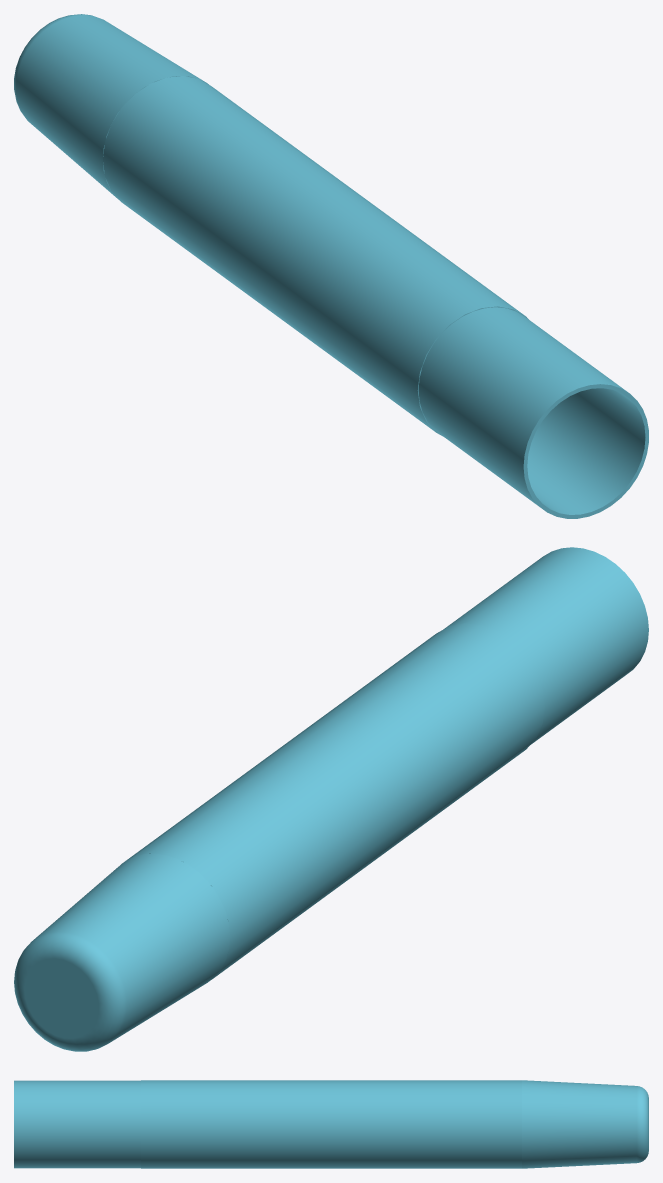
File: lysis-tube-1.obj
3 views of the same model, one above another, from view 1: azimuth 30°, elevation 25°; view 2: azimuth 150°, elevation 25°; view 3: azimuth 270°, elevation 25° (orthographic). The views are drawn at different scales.
Visible parts, largest first — view 1: Body1, Body4, Body3; view 2: Body1, Body3, Body4; view 3: Body1, Body4, Body3.
Part boxes in pixels (box(x1,y1,x2,y2)): Body1: box(103, 76, 528, 435); Body4: box(418, 307, 648, 518); Body3: box(14, 14, 208, 200); Body1: box(121, 623, 544, 980); Body3: box(14, 853, 230, 1051); Body4: box(443, 547, 648, 744); Body1: box(141, 1080, 521, 1168); Body4: box(14, 1080, 140, 1168); Body3: box(522, 1080, 648, 1168).
Bounding box in the file's own units: 1.4 × 1.4 × 10.
